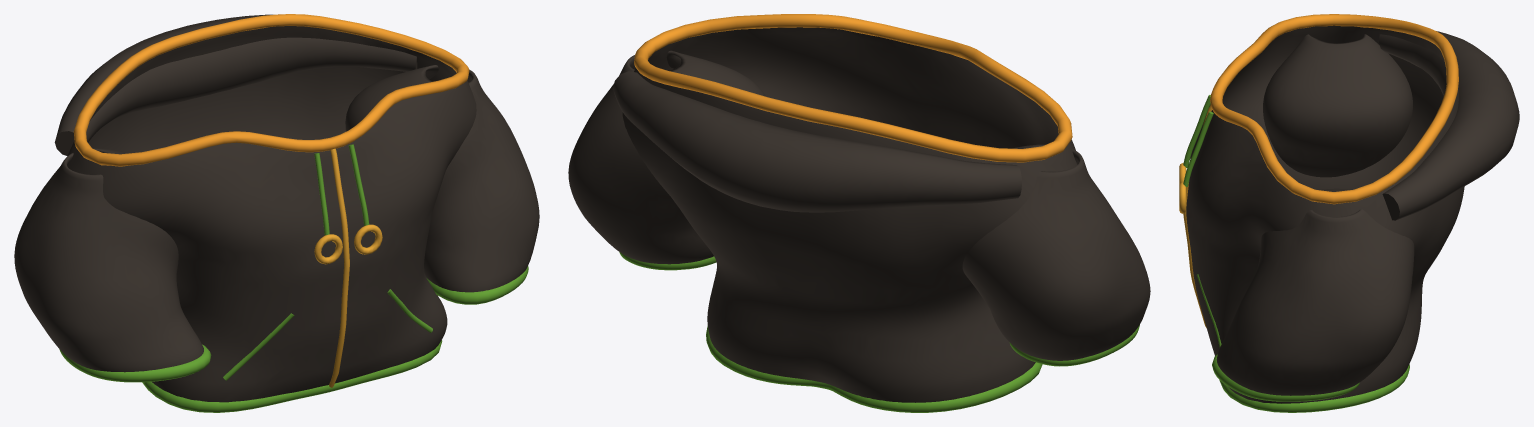
File: sudadera.glb
3 views of the same model, side by side, from view 1: azimuth 30°, elevation 25°; view 2: azimuth 150°, elevation 25°; view 3: azimuth 270°, elevation 25° (orthographic). The views are drawn at different scales.
Visible parts, largest first — view 1: accesorio_sudadera; view 2: accesorio_sudadera; view 3: accesorio_sudadera.
Part boxes in pixels (x1,y1,x2,y2): accesorio_sudadera: [14, 14, 539, 412]; accesorio_sudadera: [568, 14, 1150, 412]; accesorio_sudadera: [1179, 14, 1519, 412].
Bounding box in the file's own units: 1.25 × 0.6891 × 0.7672.
